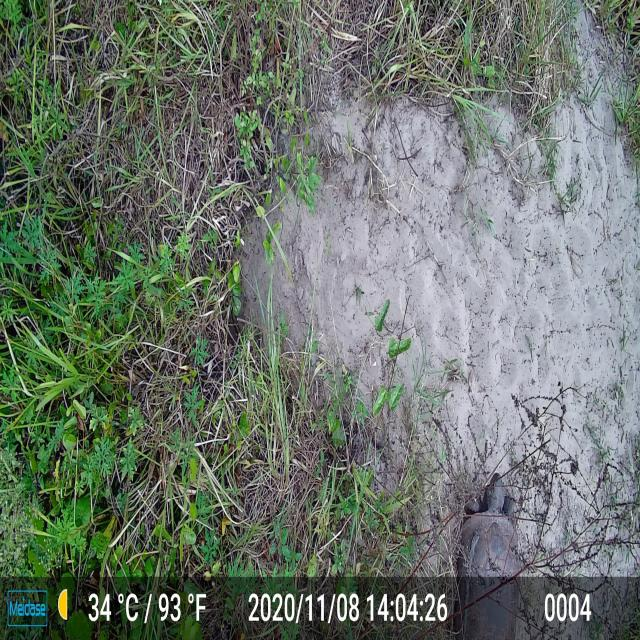tortoise: (454, 472, 520, 640)
